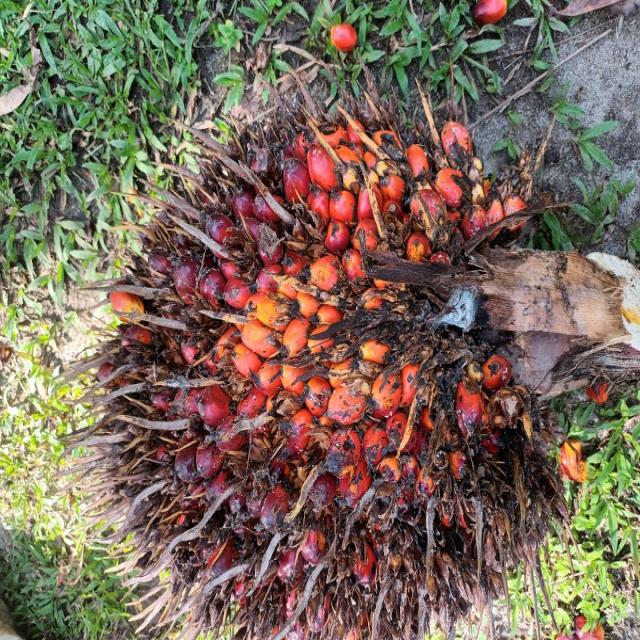fraksi 1: (8, 49, 416, 640)
